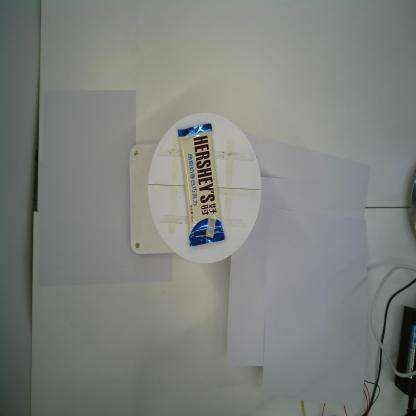Chocolate: (176, 121, 226, 248)
